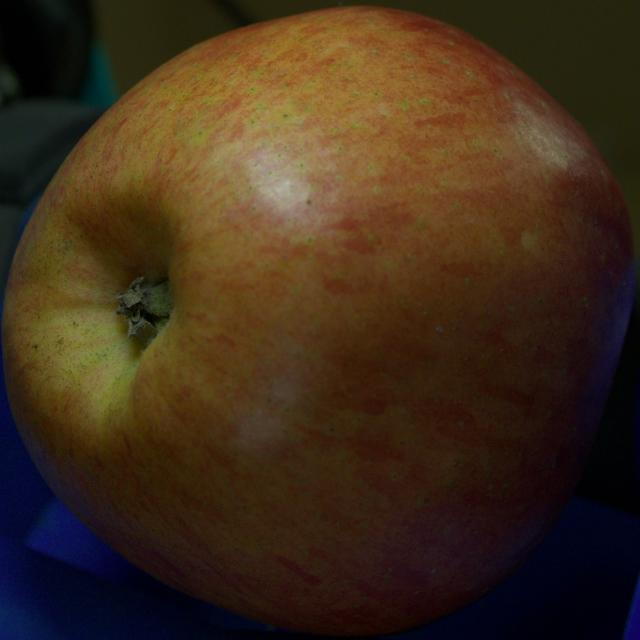apple: (1, 7, 632, 635)
